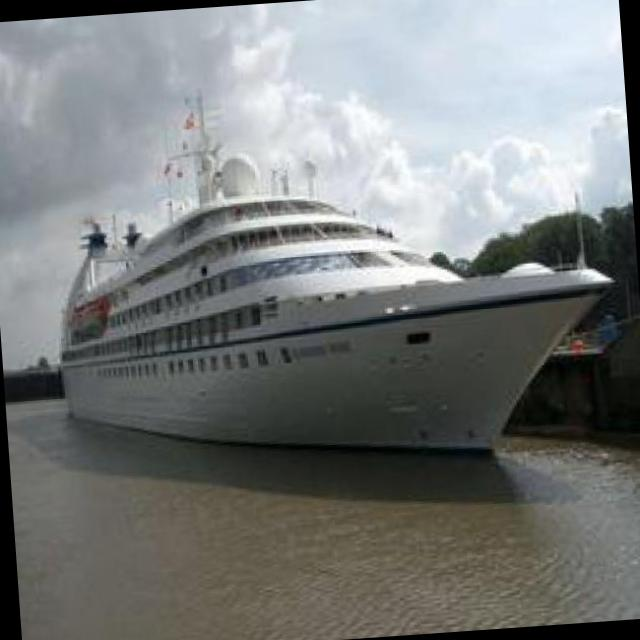boat: (28, 170, 628, 500)
